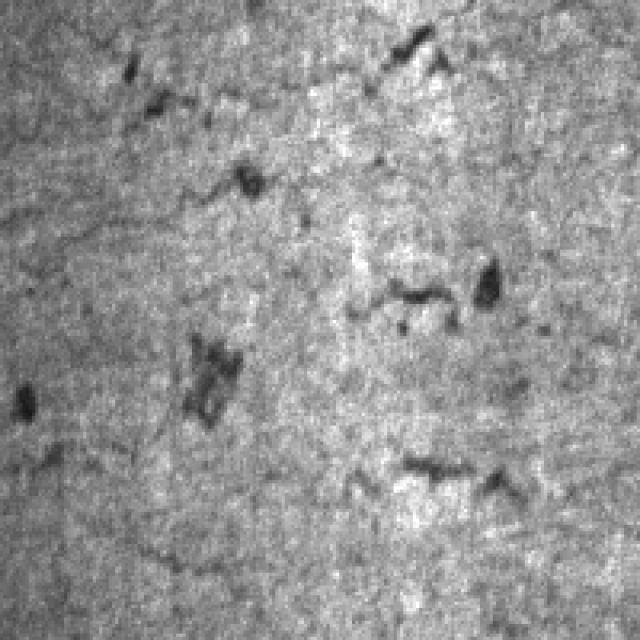crazing: (0, 425, 630, 617), (189, 240, 541, 515), (0, 160, 506, 342), (0, 7, 522, 138)
